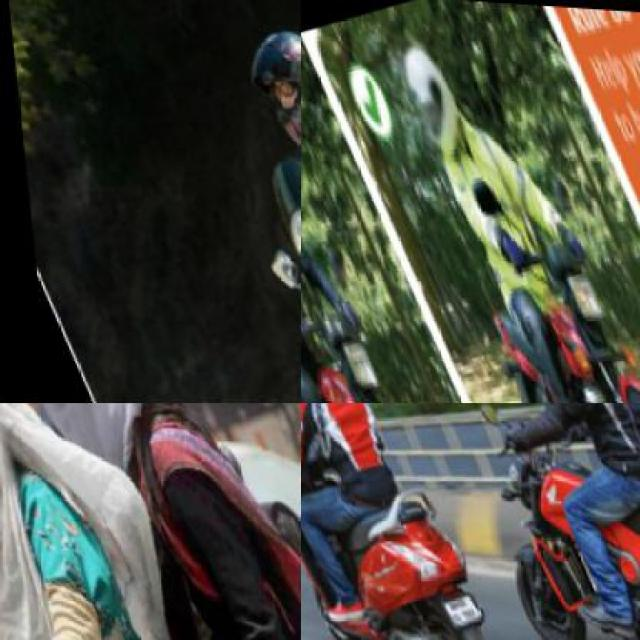With Helmet: (384, 27, 471, 151), (224, 11, 298, 151)
